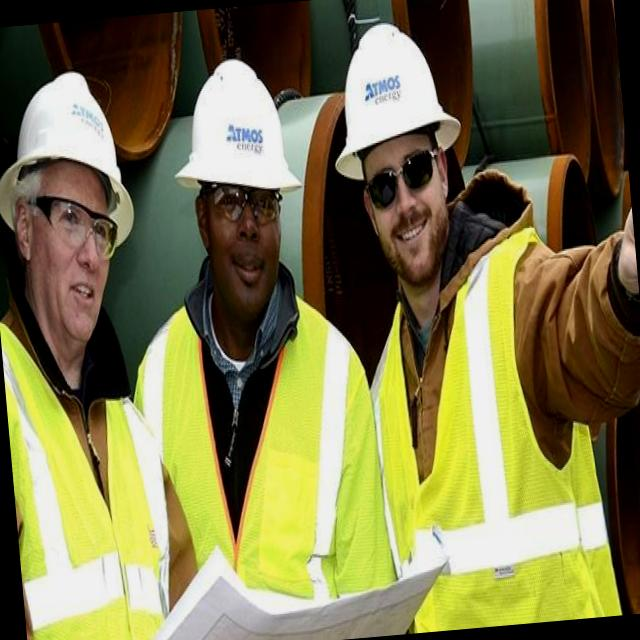goggles: (27, 183, 121, 267), (356, 143, 452, 216), (195, 172, 287, 231)
helmet: (164, 48, 310, 236), (323, 23, 466, 184), (0, 61, 131, 232)
vest: (351, 210, 628, 636), (127, 286, 396, 640), (0, 303, 171, 640)
